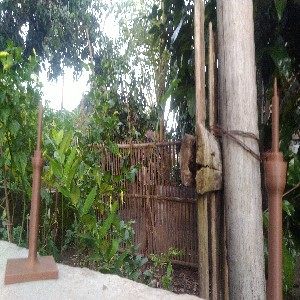solder: (261, 75, 288, 300)
